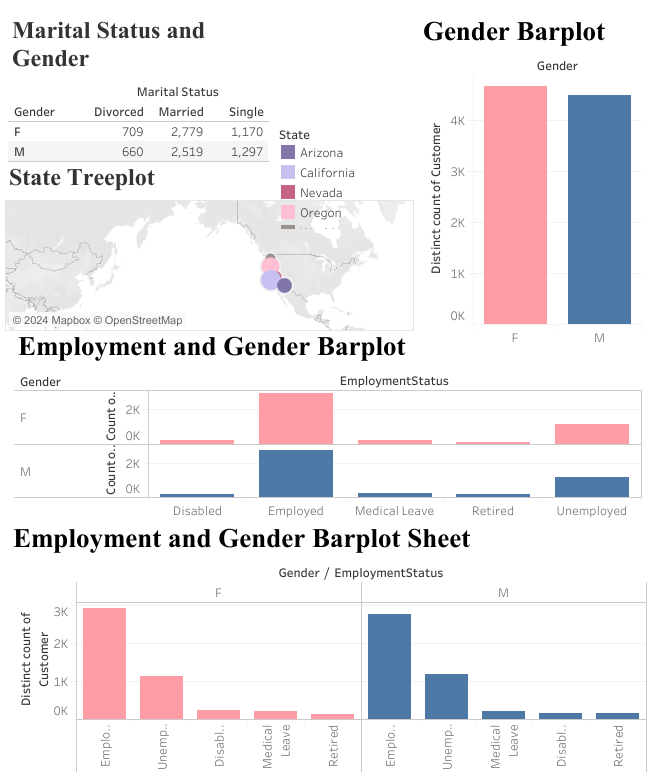

Layout of this report page (visuals, bound fields, positions):
{"tool":"tableau","page":{"name":"Dashboard 1","canvas":[650,860],"ordinal":0},"visuals":[{"type":"worksheet","title":"Gender Barplot","mark":"Automatic","rows":["Customer"],"cols":["Gender"],"box":[419,10,223,375]},{"type":"worksheet","title":"Marital Status and Gender Cross Table","mark":"Automatic","rows":["Gender"],"cols":["Marital Status"],"box":[8,11,479,181]},{"type":"legend","title":"State Treeplot Sheet","param":"[federated.1sq2agl0okppqw174loqj0dlkxrq].[none:State:nk]","box":[278,137,140,118]},{"type":"worksheet","title":"State Treeplot Sheet","mark":"Automatic","box":[5,175,409,193]},{"type":"worksheet","title":"Employment and Gender Barplot","mark":"Automatic","rows":["Gender","Gender"],"cols":["EmploymentStatus"],"box":[14,360,628,218]},{"type":"worksheet","title":"Employment and Gender Barplot Sheet:","mark":"Automatic","rows":["Customer"],"cols":["Gender","EmploymentStatus"],"box":[9,574,638,286]}]}

Visuals, with their boxes on the page's 650x860 design canvas (x1, y1, x2, y2). These are canvas units, not pixel positions in the 649x772 screenshot, which may show the page scaled, cropped or inside an application window:
"Gender Barplot" worksheet: {"left": 419, "top": 10, "right": 642, "bottom": 385}
"Marital Status and Gender Cross Table" worksheet: {"left": 8, "top": 11, "right": 487, "bottom": 192}
"State Treeplot Sheet" legend: {"left": 278, "top": 137, "right": 418, "bottom": 255}
"State Treeplot Sheet" worksheet: {"left": 5, "top": 175, "right": 414, "bottom": 368}
"Employment and Gender Barplot" worksheet: {"left": 14, "top": 360, "right": 642, "bottom": 578}
"Employment and Gender Barplot Sheet:" worksheet: {"left": 9, "top": 574, "right": 647, "bottom": 860}
